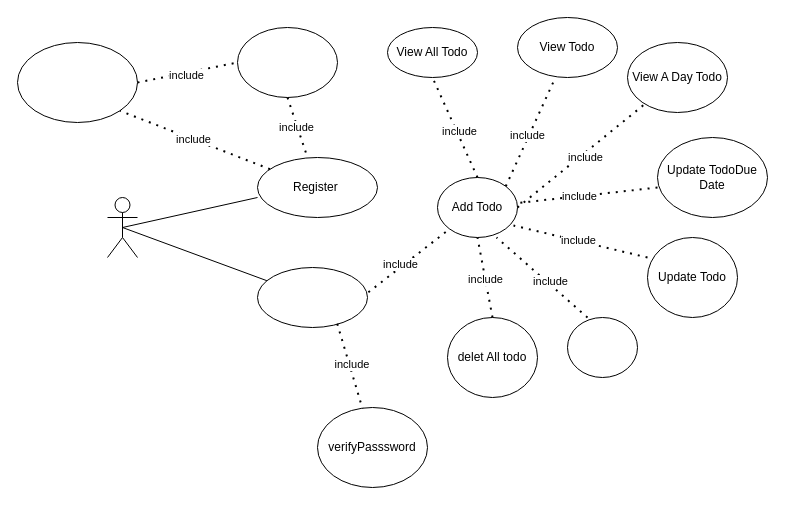
This 785x505 diagram has some shape labels left out. Each missing label, with the box of its shape:
delete Account: (16, 42, 138, 122)
delete Todo: (566, 316, 638, 378)
Login: (256, 266, 368, 328)
User: (106, 196, 138, 258)
Veify if userExist: (236, 26, 338, 98)
